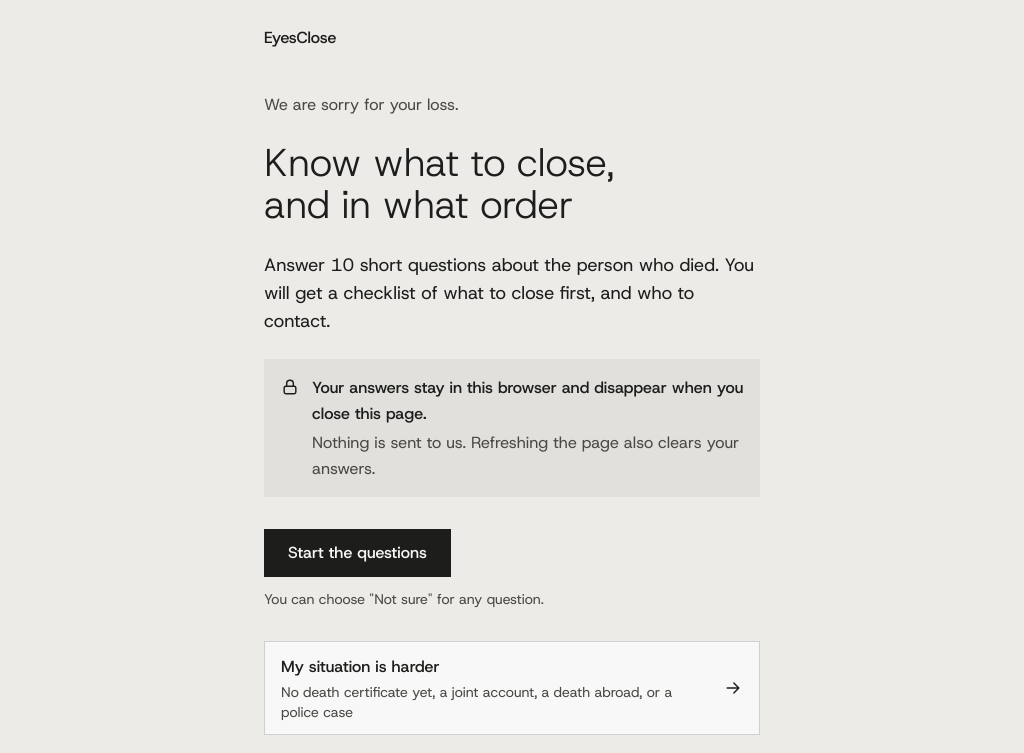
Test: FormFlow › asks kindly for an answer and keeps the user on the same question
The width and height of the screenshot is (1024, 753).
What coordinates should you click on to do the following:
click the button "Start the questions"
I would click on:
 (357, 553)
Its box is [264,529,451,577].
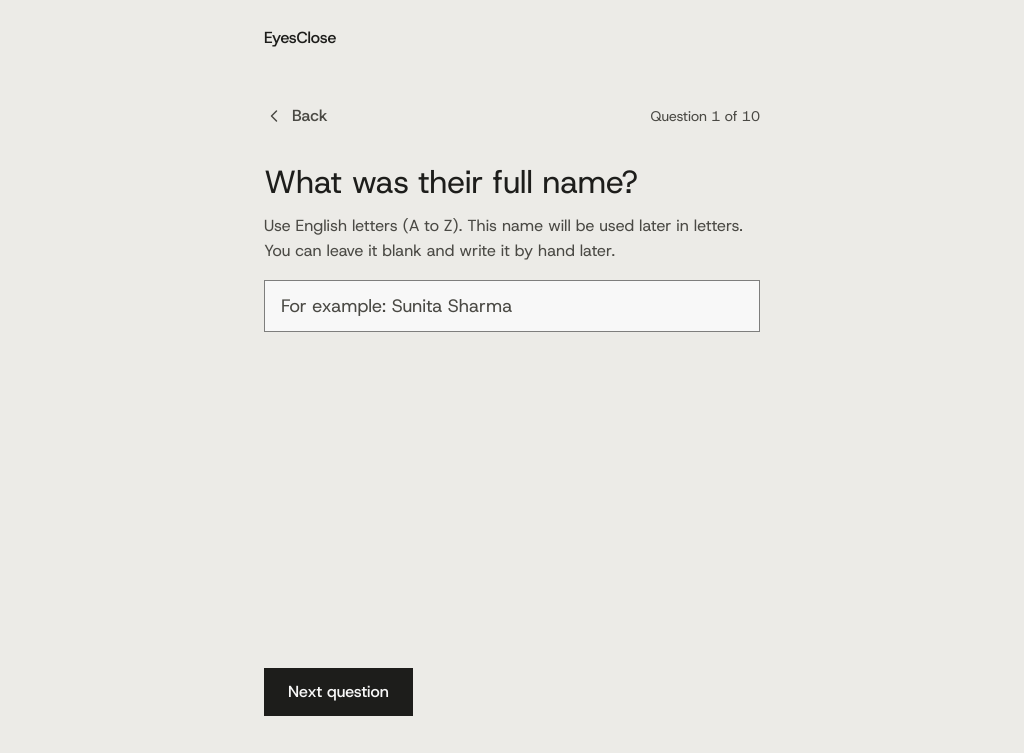
What coordinates should you click on to do the following:
click the button "Next question"
I would click on:
 (338, 692)
Its box is [264,668,413,716].
(page scrolled)
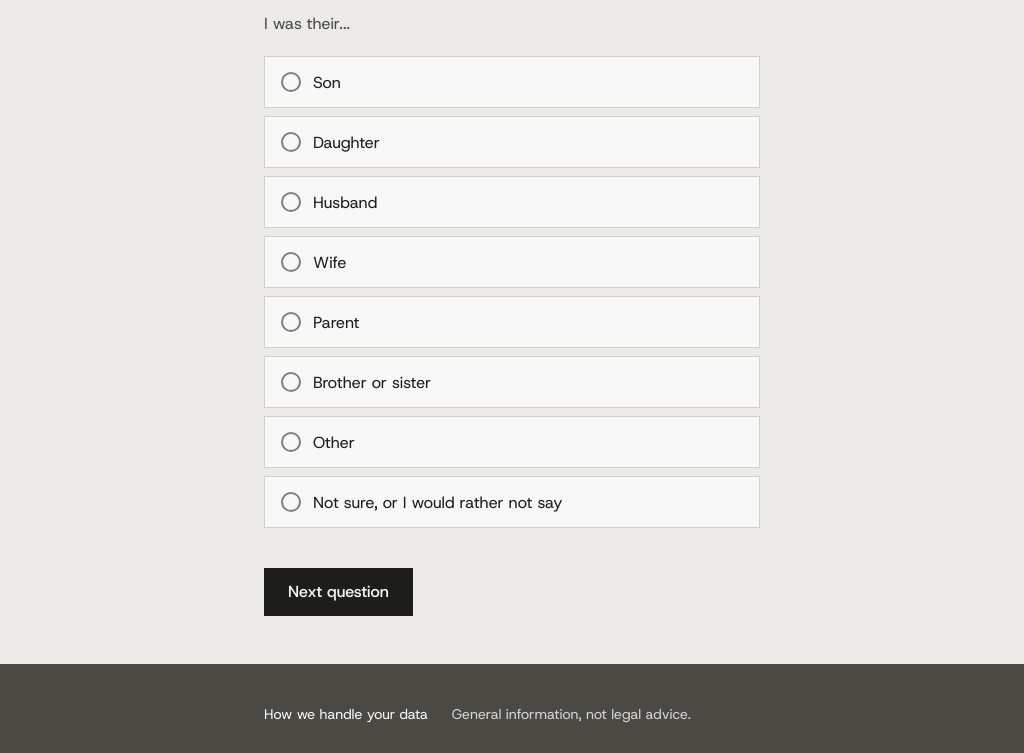
What coordinates should you click on to do the following:
click the button "Next question"
I would click on:
 (338, 592)
Its box is [264,568,413,616].
(page scrolled)
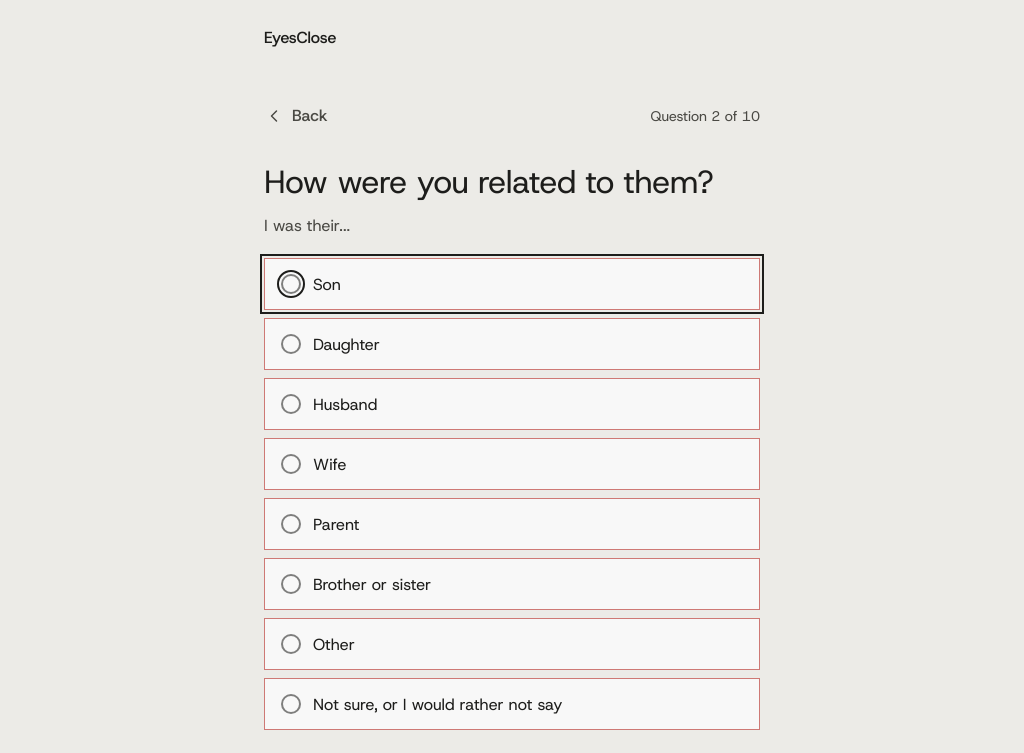
Result: the text "Question 2 of 10" is shown at [651,106,760,126]
What coordinates should you click on to do the following:
click the button "Back"
I would click on:
 (296, 116)
Its box is [252,92,340,140].
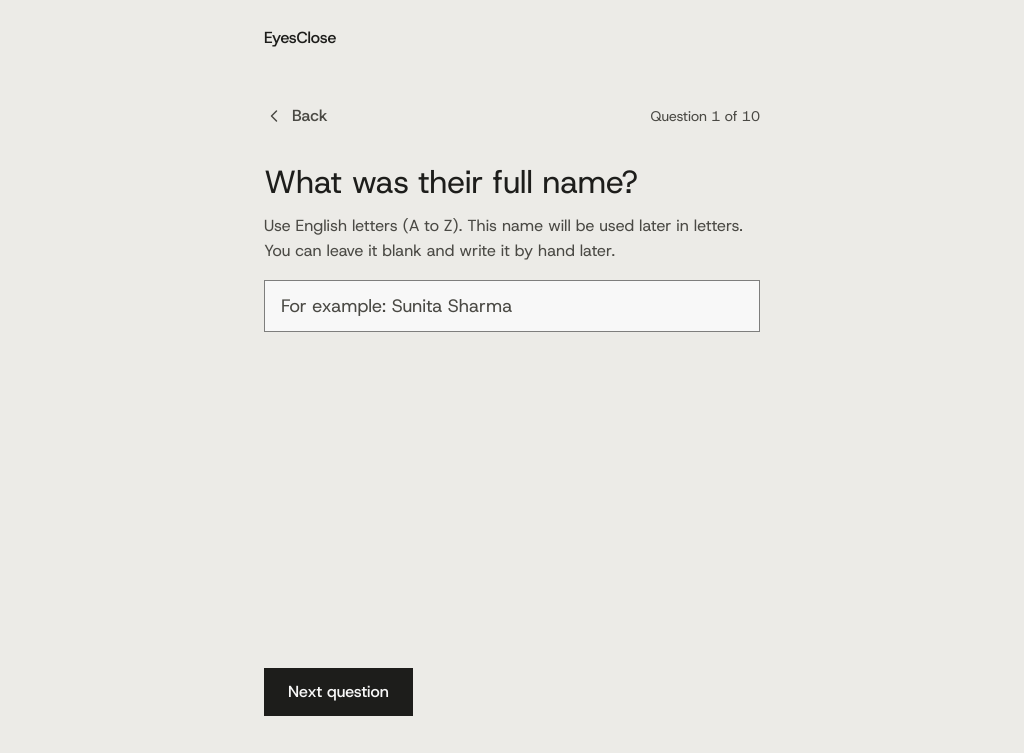
Result: the text "Question 1 of 10" is shown at [651,106,760,126]
